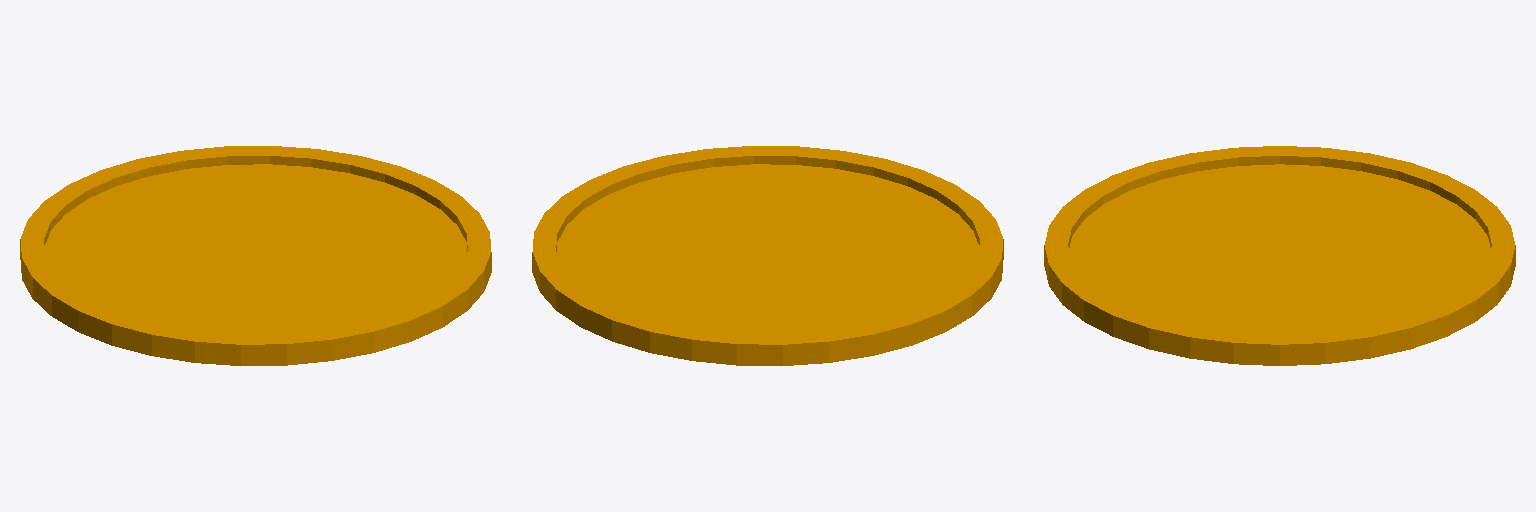
The robot description file, URDF, robot "token":
?<?xml version="1.0" encoding="utf-8"?>
<robot name="token">
  <material name="mat_TokenWhiteWLogo">
    <texture filename="package://resources/tex_GameToken.png" />
  </material>
  <link name="base_link">
    <inertial>
      <origin rpy="0 0 0" xyz="0 0 -3.3E-05" />
      <mass value="1" />
      <inertia ixx="0.00238589663058519" ixy="2.40065967105352E-10" ixz="2.02899127543787E-06" iyy="0.00238589639775455" iyz="2.02882688427053E-06" izz="0.00475521385669708" />
    </inertial>
    <visual>
      <origin rpy="0 4.712389 0" />
      <geometry>
        <mesh filename="package://meshes/TokenWhiteWLogo.stl" scale="10 10 10" />
      </geometry>
      <material name="mat_TokenWhiteWLogo" />
    </visual>
    <collision>
      <origin rpy="0 4.712389 0" />
      <geometry>
        <mesh filename="package://meshes/TokenWhiteWLogo.stl" scale="10 10 10" />
      </geometry>
    </collision>
  </link>
</robot>

--- What the picture shows (computed from the rendered views, not written in the file) ---
3 views of the same robot in one strip: view 1: azimuth 30°, elevation 25°; view 2: azimuth 150°, elevation 25°; view 3: azimuth 270°, elevation 25° (orthographic).
Robot: token — 1 links, 0 joints (none); root link base_link; default pose: all joints at 0.
Links seen in each view (by area): view 1: base_link; view 2: base_link; view 3: base_link.
Link boxes in pixels (x1,y1,x2,y2): base_link: (20, 146, 491, 365); base_link: (532, 146, 1003, 365); base_link: (1044, 146, 1515, 365).
Size in the robot's own frame: 0.2 by 0.2 by 0.01 metres.
1 mesh visuals loaded from 1 distinct referenced files (1 binary STL).